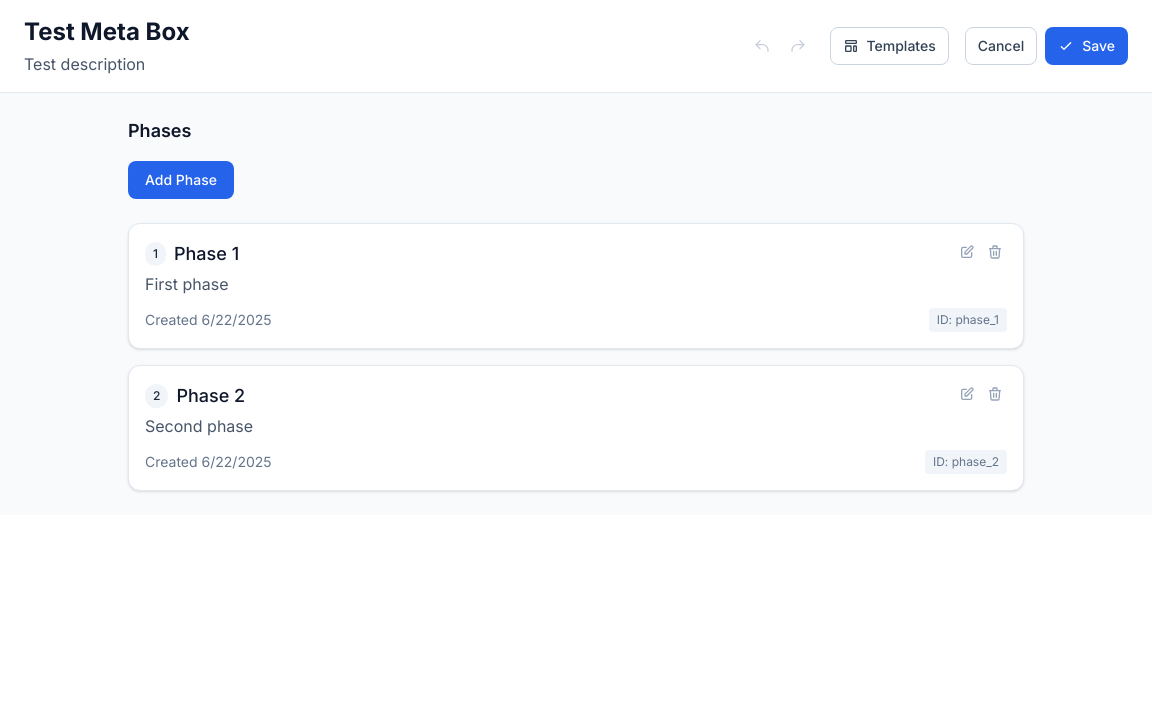
MetaBoxEditor › allows adding a new phase
Click the button "Add Phase": (181, 180) [128,161,234,199]
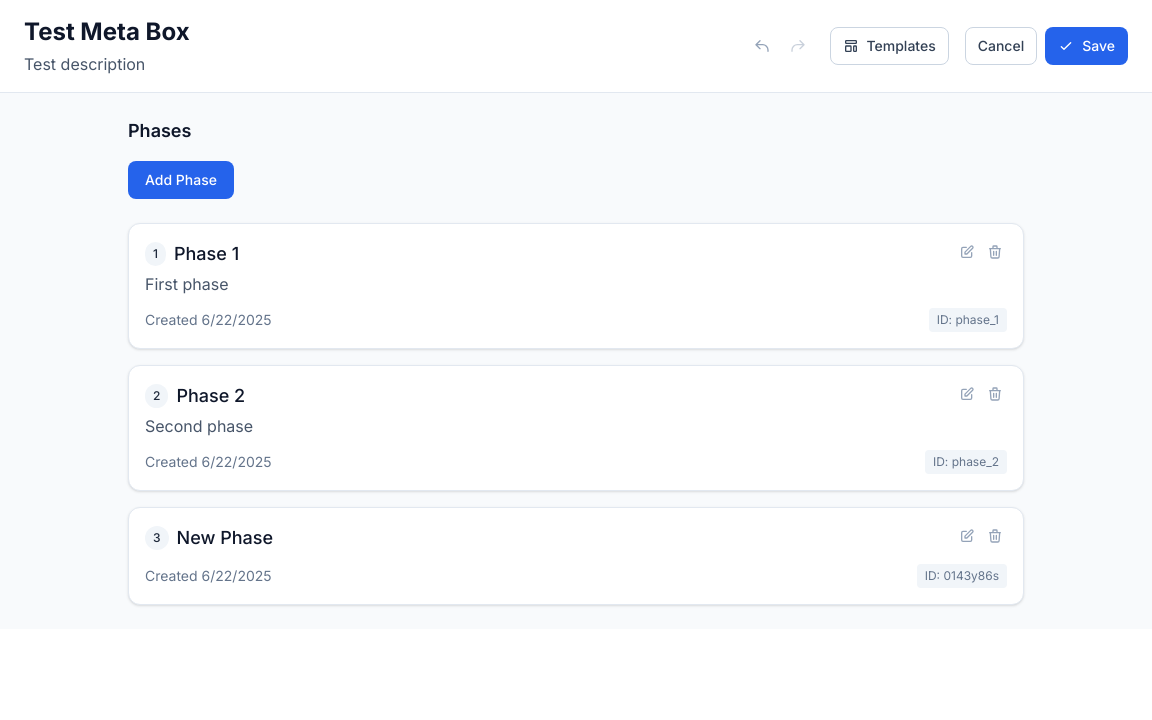
Expected: the heading "Phase 1" is shown, [174,240,239,268]
Expected: the heading "New Phase" is shown, [176,524,273,552]
